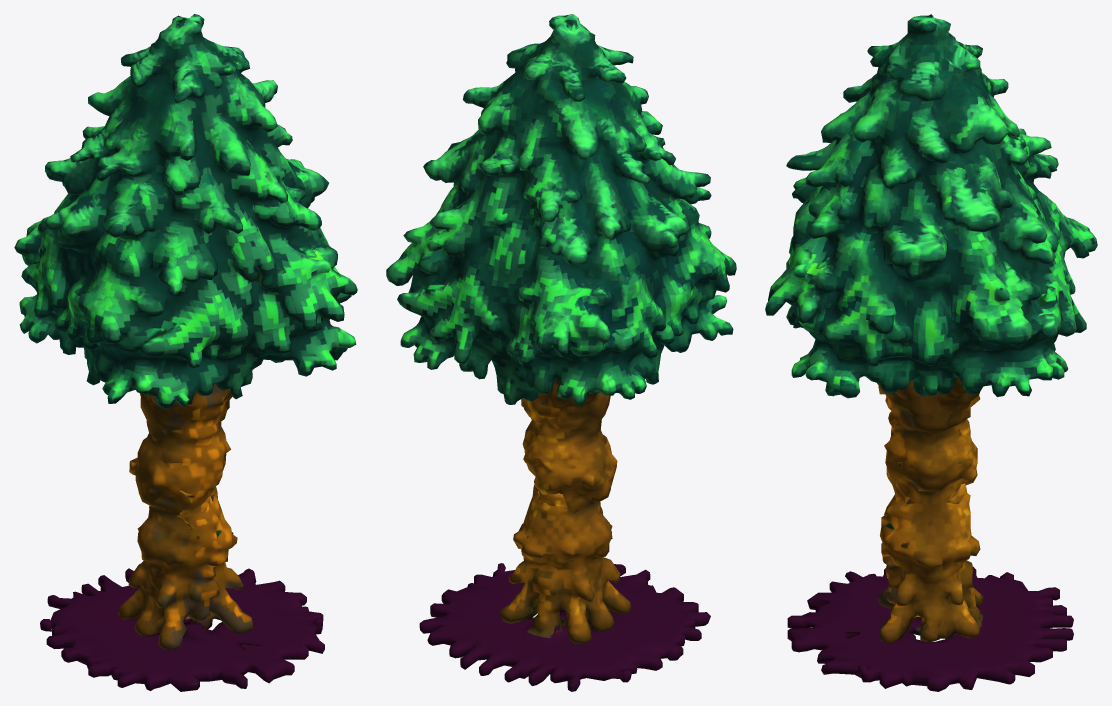
The model's file is midnight_evergreen.glb.
The picture shows the model from 3 angles, left to right: view 1: azimuth 30°, elevation 25°; view 2: azimuth 150°, elevation 25°; view 3: azimuth 270°, elevation 25°; orthographic projection.
Bounding box in the file's own units: 0.8689 × 1.91 × 0.9315.
1 material, 1 textured.
